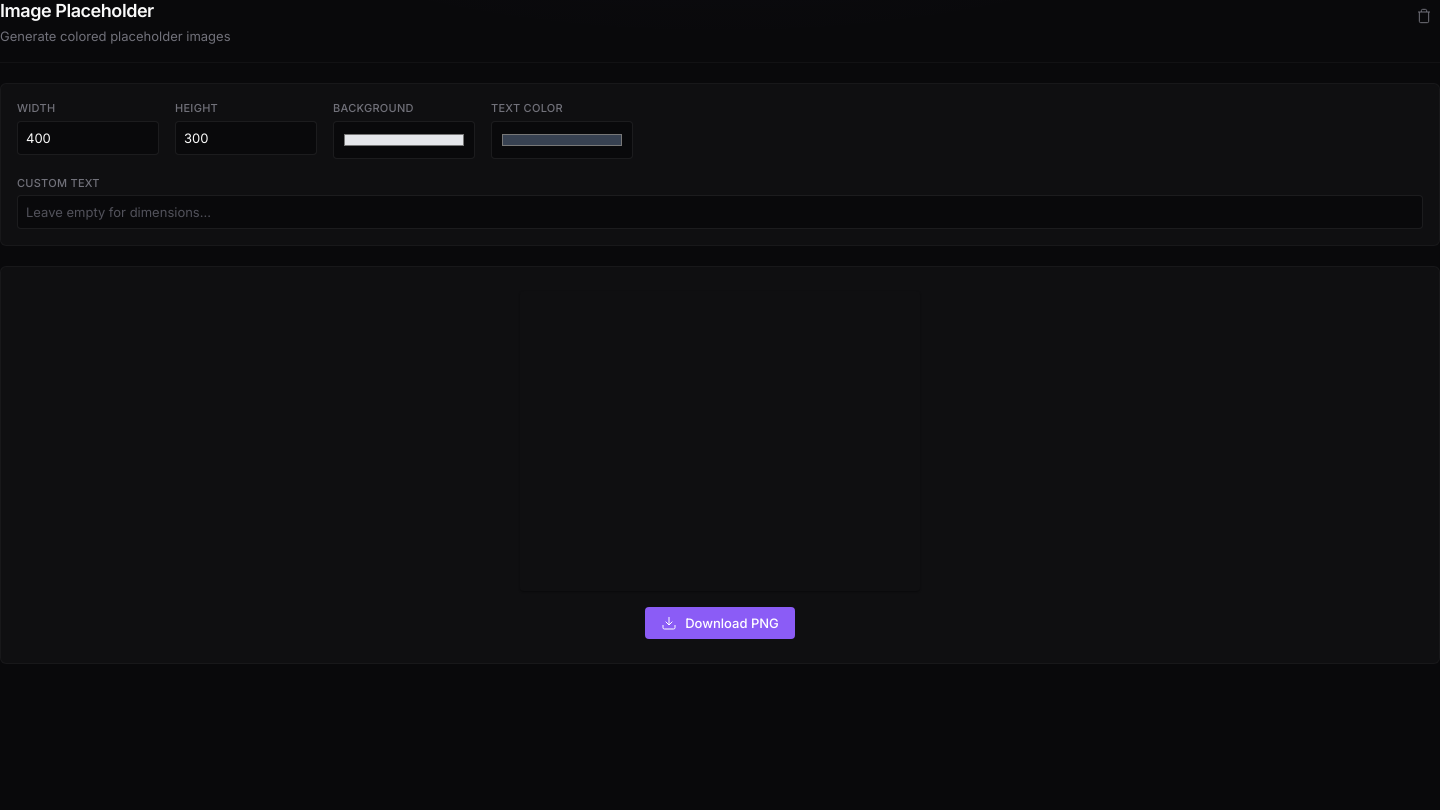
Test: PlaceholderTool › Boundary Validation › should clamp height above maximum
Replace the text in the number field with test id "height-input" with "5000": point(246, 138) [175, 120, 317, 154]
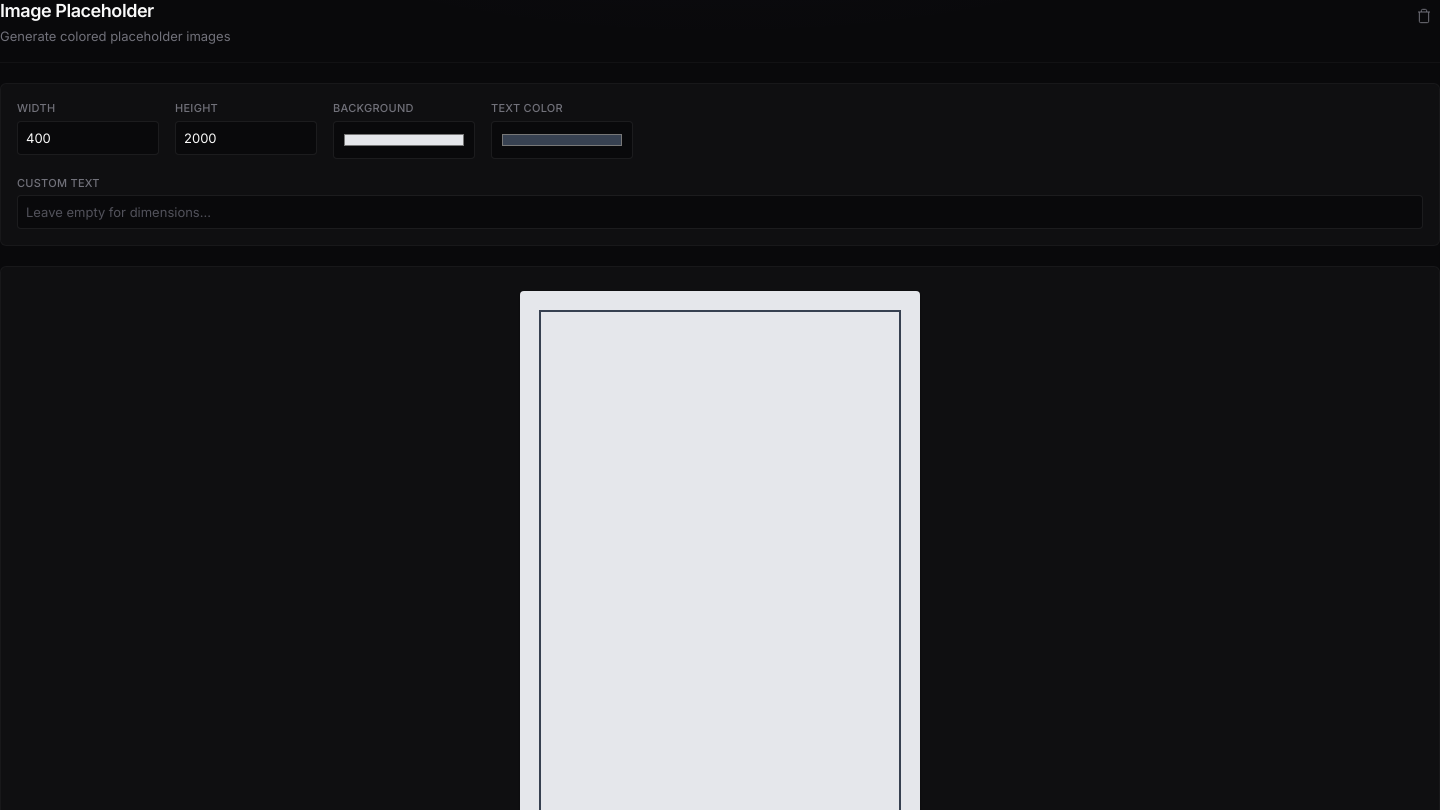
Check: the number field with test id "height-input" holds "2000", box [175, 120, 317, 154]
